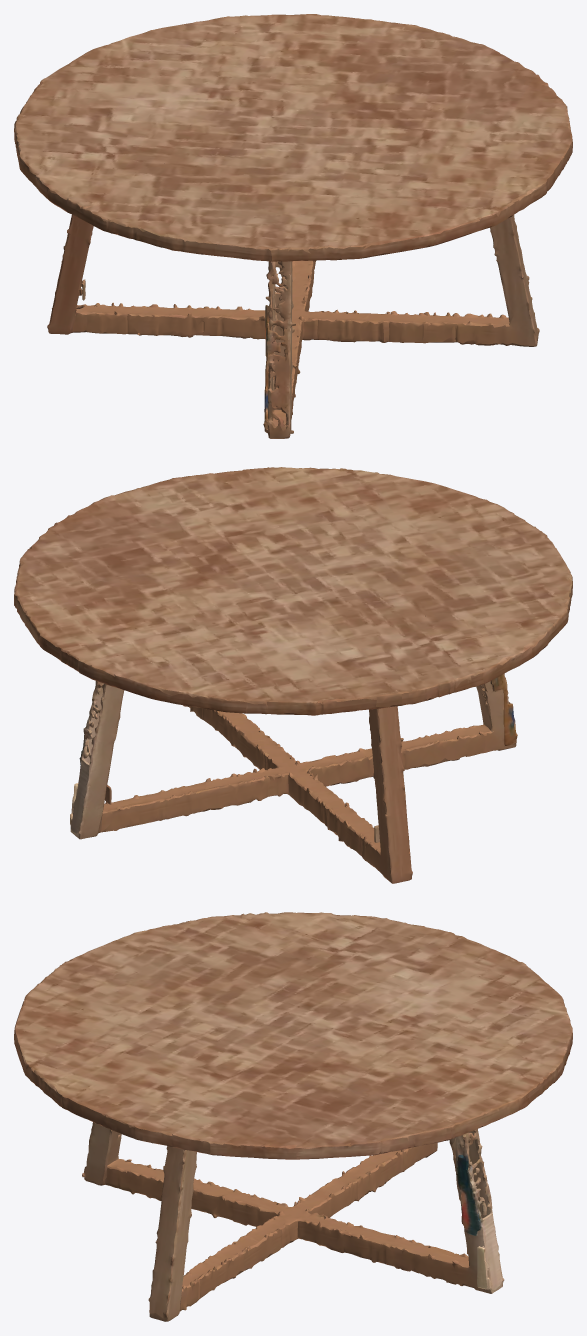
File: room__n27-2.glb
3 renders of one model, top to bottom at view 1: azimuth 30°, elevation 25°; view 2: azimuth 150°, elevation 25°; view 3: azimuth 270°, elevation 25°, orthographic.
Size of the model in its own units: 1 by 0.4099 by 1.
Materials: 1 (1 with a texture image).
